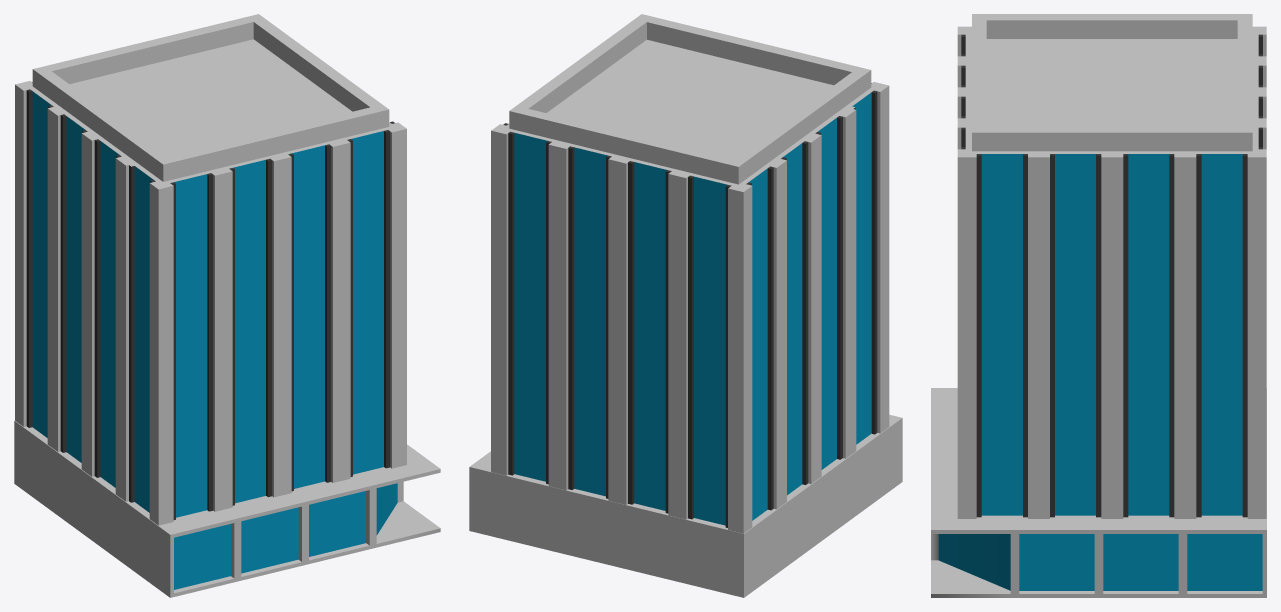
File: Office.fbx
3 renders of one model, left to right at view 1: azimuth 30°, elevation 25°; view 2: azimuth 150°, elevation 25°; view 3: azimuth 270°, elevation 25°, orthographic. The views are drawn at different scales.
Visible parts, largest first — view 1: Office; view 2: Office; view 3: Office.
Part boxes in pixels (left/top/right/bottom): Office: left=14, top=14, right=440, bottom=597; Office: left=469, top=14, right=902, bottom=597; Office: left=931, top=14, right=1266, bottom=597.
Bounding box in the file's own units: 5.38 × 7.93 × 5.38.
